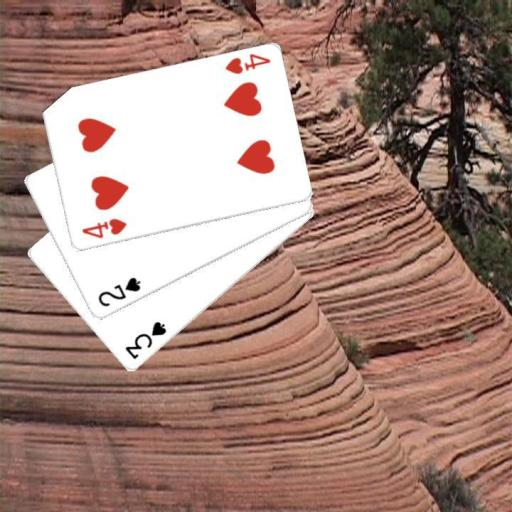2S: (95, 274, 142, 309)
3S: (122, 319, 168, 361)
4H: (78, 216, 128, 241), (222, 51, 272, 76)
